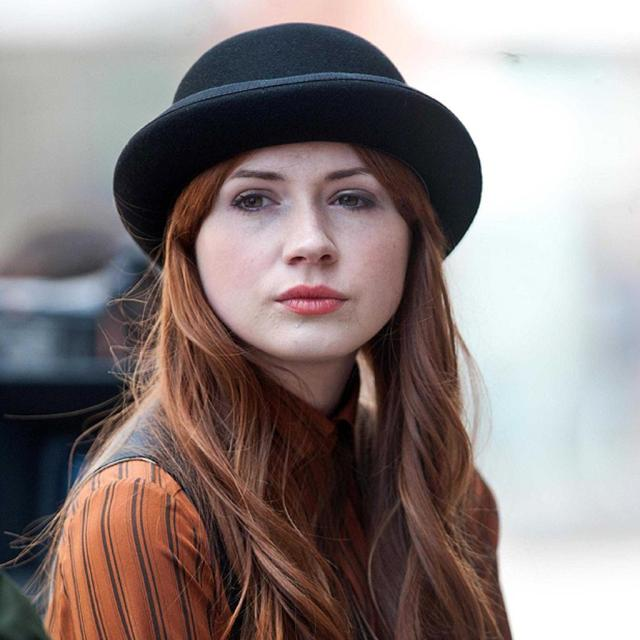Face: (213, 144, 411, 354)
